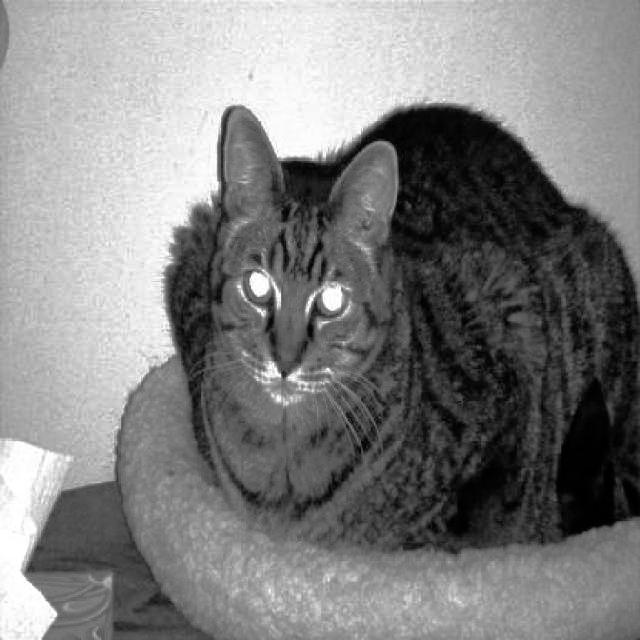Cat: (163, 90, 640, 550)
